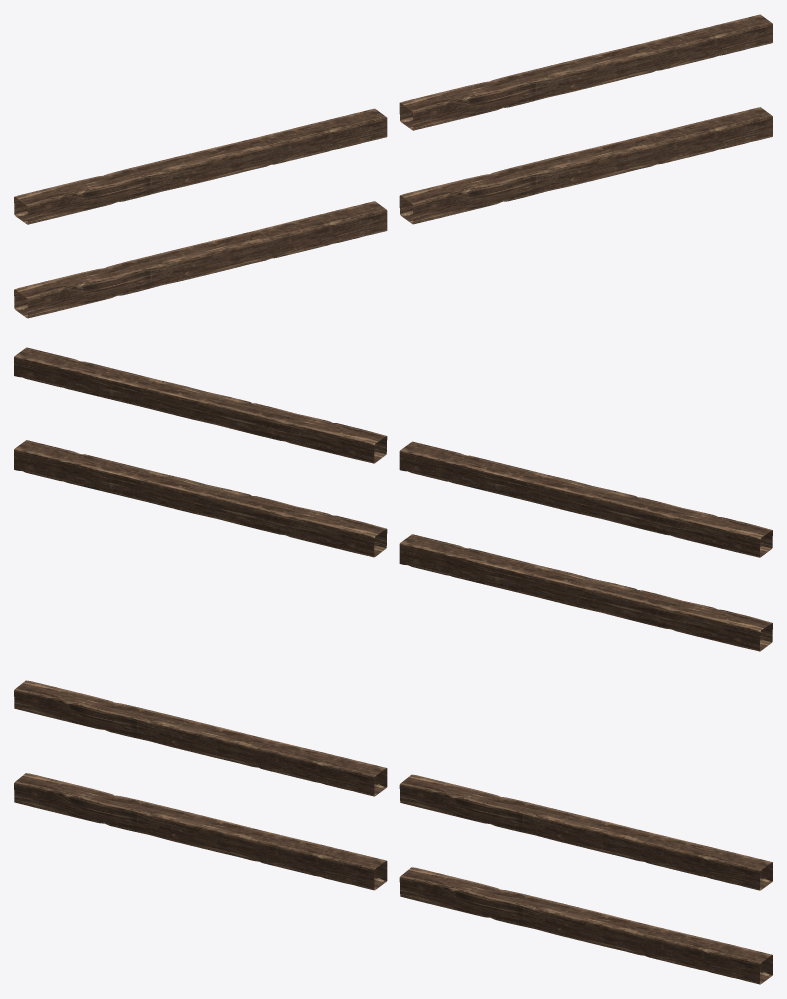
Rendered from SM_BackWall_06.fbx.
The picture shows the model from 3 angles, top to bottom: view 1: azimuth 30°, elevation 25°; view 2: azimuth 150°, elevation 25°; view 3: azimuth 330°, elevation 25°; orthographic projection.
Visible parts, largest first — view 1: SM_BackWall_06_LOD0; view 2: SM_BackWall_06_LOD0; view 3: SM_BackWall_06_LOD0.
Part boxes in pixels (x1,y1,x2,y2): SM_BackWall_06_LOD0: [14, 14, 772, 318]; SM_BackWall_06_LOD0: [14, 347, 772, 651]; SM_BackWall_06_LOD0: [14, 680, 772, 984].
Size of the model in its own units: 906 by 27.37 by 132.
